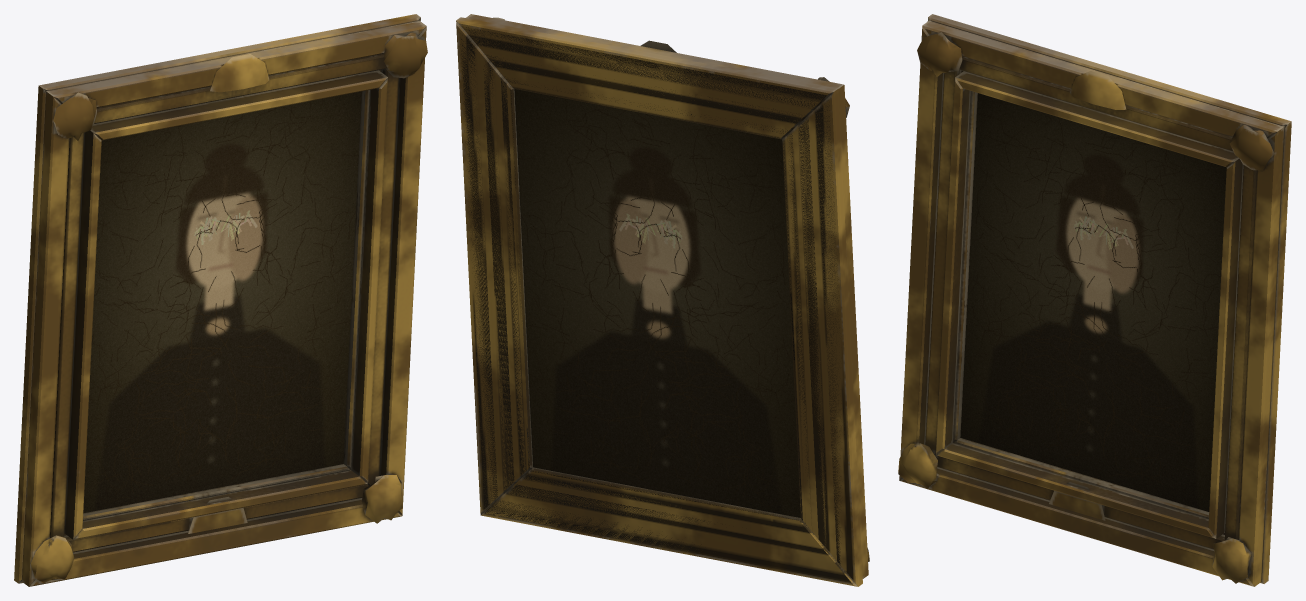
Rendered from PortraitPainting.fbx.
The picture shows the model from 3 angles, left to right: view 1: azimuth 30°, elevation 25°; view 2: azimuth 150°, elevation 25°; view 3: azimuth 330°, elevation 25°; orthographic projection. The views are drawn at different scales.
Parts seen in each view (by area): view 1: Frame, Canvas; view 2: Canvas, Frame; view 3: Frame, Canvas.
Boxes of the visible parts, left/top/right/bottom form: Frame: left=14, top=14, right=427, bottom=586; Canvas: left=83, top=91, right=361, bottom=513; Canvas: left=514, top=89, right=800, bottom=517; Frame: left=456, top=14, right=869, bottom=586; Frame: left=898, top=14, right=1291, bottom=586; Canvas: left=960, top=93, right=1226, bottom=511.
Bounding box in the file's own units: 2.42 × 2.94 × 0.2154.
1 material, 1 textured.
